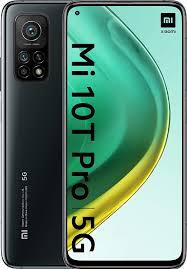Smartphone: (67, 3, 183, 268), (6, 5, 73, 269)
